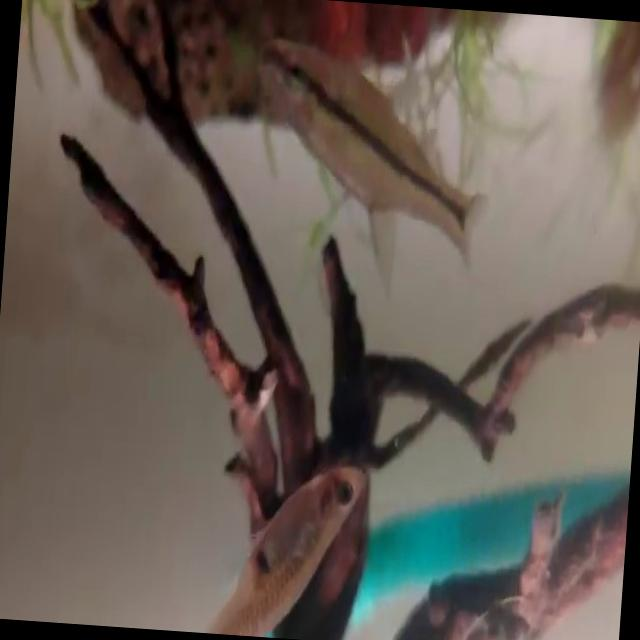Cakil Baligi: (237, 38, 487, 272), (194, 450, 360, 640)
